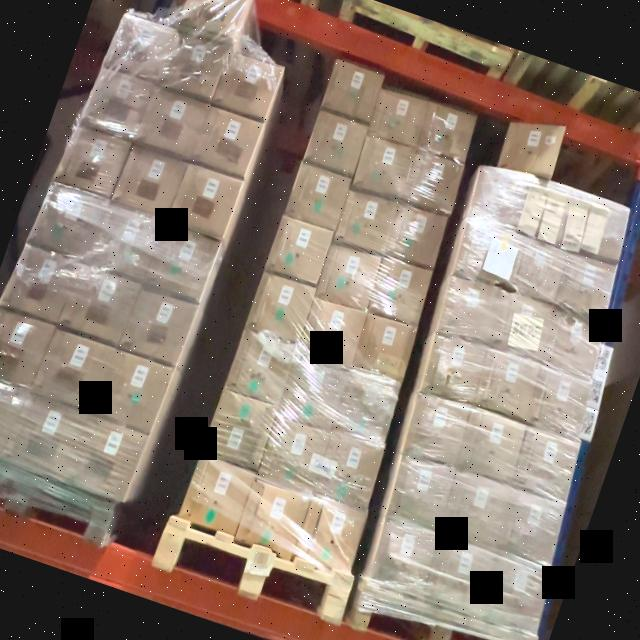box: (2, 241, 78, 325), (7, 396, 84, 476), (202, 390, 276, 470), (180, 456, 254, 534), (122, 286, 195, 365), (36, 333, 112, 407), (32, 179, 104, 256), (64, 269, 137, 344), (259, 412, 329, 490), (100, 352, 171, 428), (235, 479, 307, 553), (294, 498, 366, 572), (422, 538, 492, 614), (76, 420, 144, 498), (226, 329, 296, 402), (214, 46, 282, 120), (461, 411, 529, 484), (56, 124, 126, 194), (170, 167, 241, 236), (384, 460, 454, 529), (314, 434, 382, 504), (81, 69, 152, 136), (92, 209, 161, 277), (152, 226, 218, 297), (314, 242, 382, 310), (368, 520, 436, 588), (108, 14, 178, 80), (192, 110, 260, 176), (352, 314, 416, 384), (486, 562, 550, 632), (116, 148, 182, 215), (298, 299, 364, 366), (351, 132, 417, 198), (498, 117, 568, 179), (334, 190, 399, 256), (266, 218, 332, 282), (281, 356, 347, 420), (447, 480, 509, 548), (505, 496, 566, 564), (436, 278, 502, 340), (568, 197, 632, 260), (139, 92, 204, 154), (469, 167, 535, 228), (249, 276, 313, 338), (335, 378, 397, 442), (320, 61, 384, 122), (499, 297, 561, 359), (386, 207, 447, 270), (519, 433, 580, 496), (302, 116, 366, 176), (421, 338, 485, 398), (403, 399, 468, 458), (560, 252, 618, 318), (370, 260, 431, 322), (524, 184, 582, 248), (456, 225, 522, 280), (288, 166, 348, 226), (550, 315, 606, 378), (168, 34, 226, 94), (418, 105, 478, 163), (482, 360, 542, 418), (0, 311, 47, 385), (534, 371, 591, 431), (512, 243, 568, 300), (372, 90, 428, 146), (403, 154, 462, 207), (181, 0, 251, 37), (0, 380, 19, 456), (592, 192, 594, 192)
